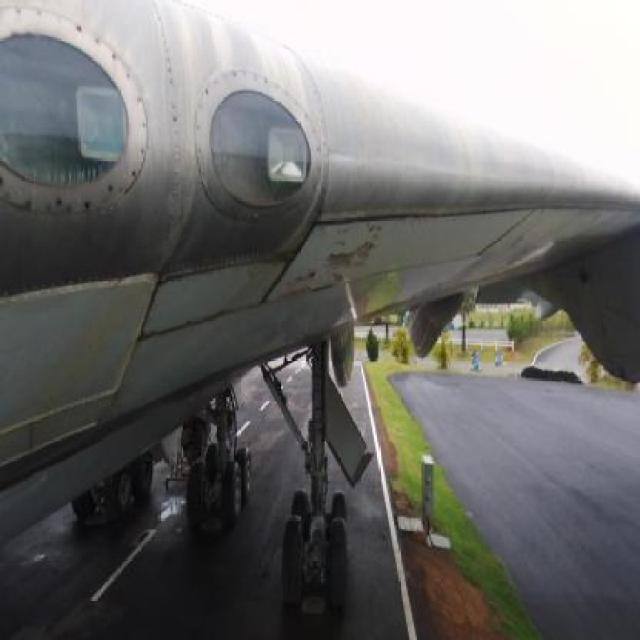Scartch: (268, 212, 408, 310)
